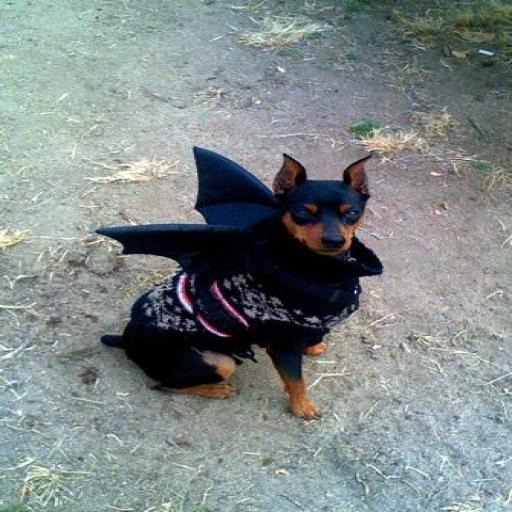dog_face: (265, 151, 383, 259)
